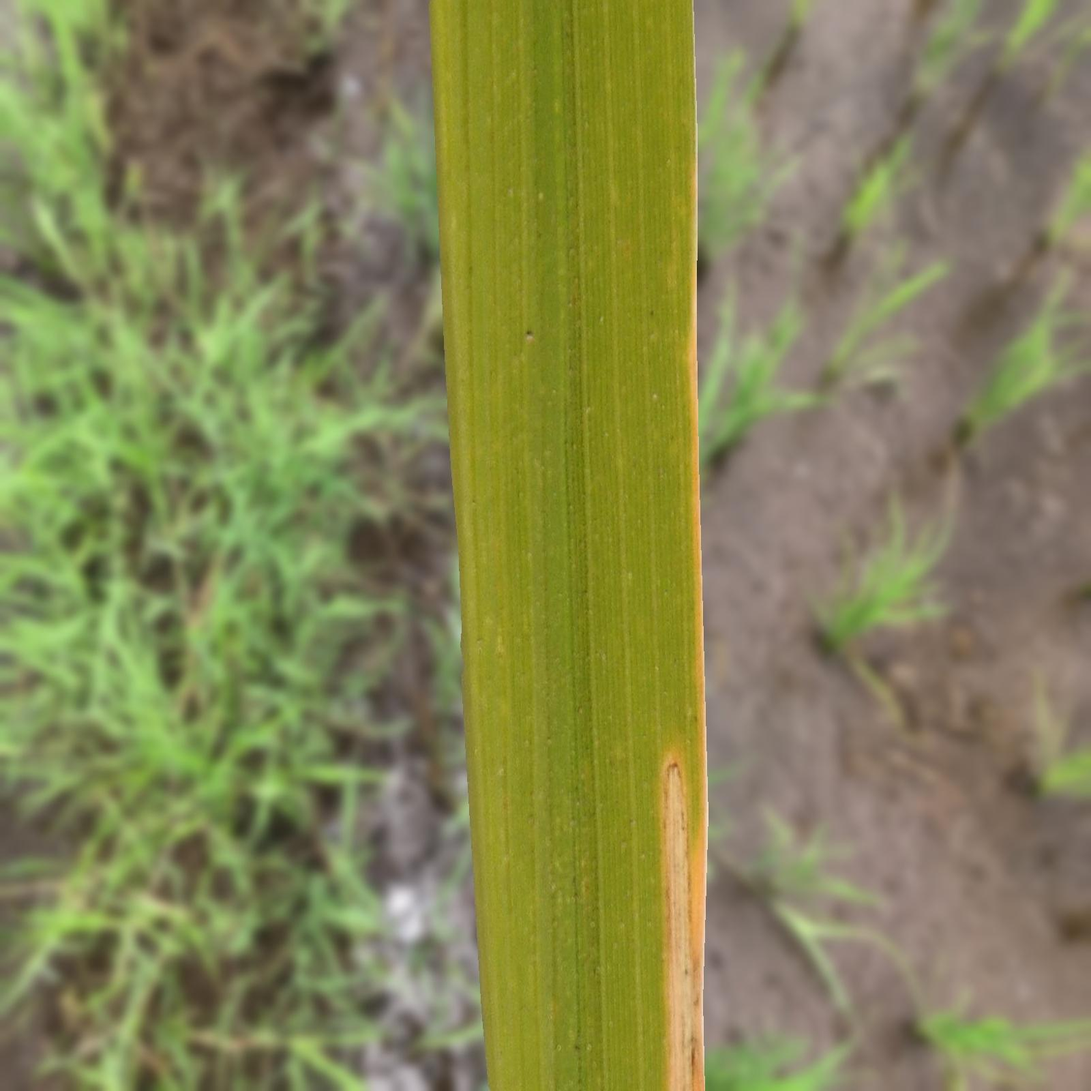BLS: (663, 266, 706, 1090)
LEAF: (429, 0, 708, 1090)
